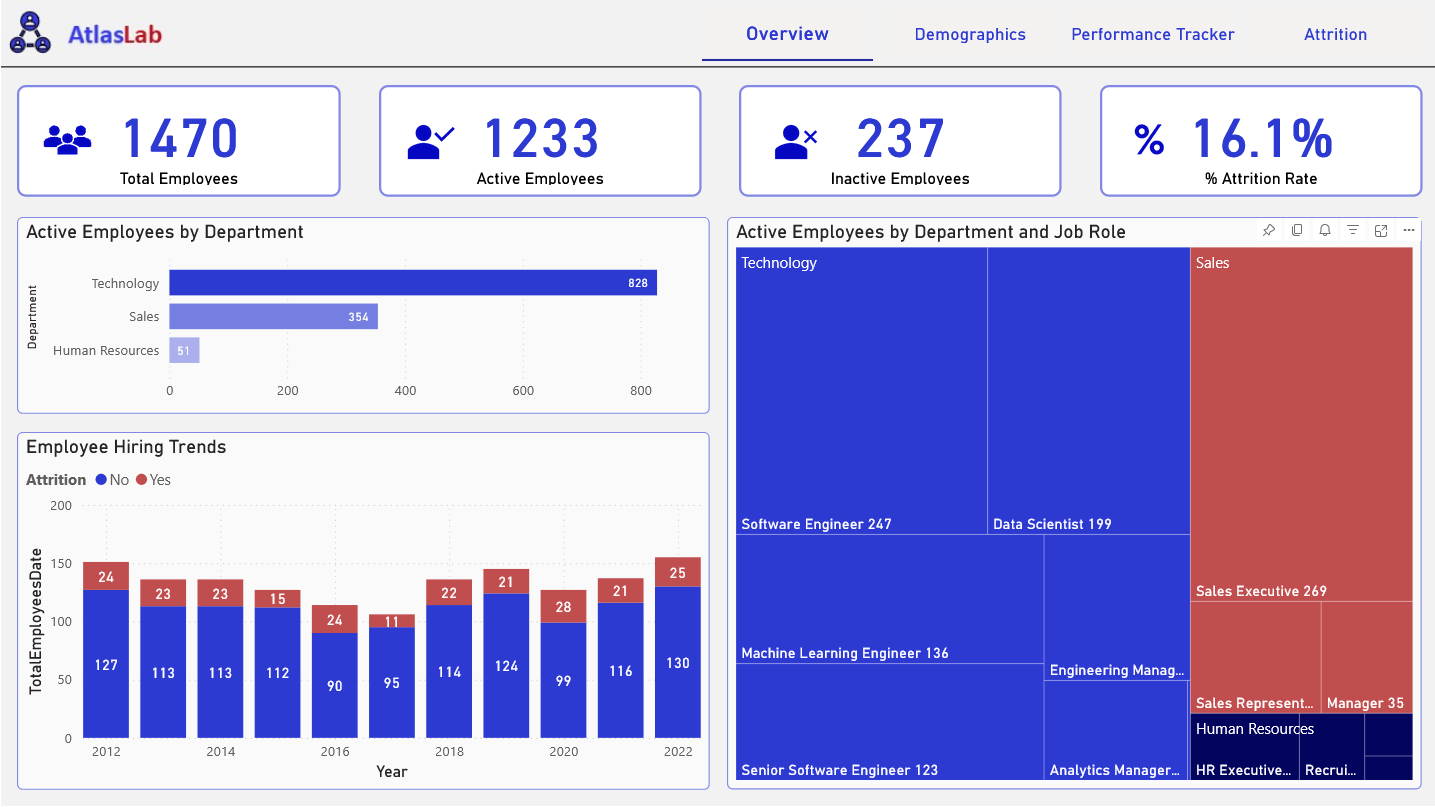

The page's visual inventory and layout, read from the dashboard file:
{"tool":"powerbi","page":{"name":"Overview","canvas":[1280,720],"ordinal":0},"visuals":[{"type":"card","fields":{"Values":["_Measures.TotalEmployees"]},"box":[15.1,75.5,288.8,99.6],"z":0},{"type":"card","fields":{"Values":["_Measures.ActiveEmployees"]},"box":[337.8,75.5,287.8,99.6],"z":1000},{"type":"card","fields":{"Values":["_Measures.InactiveEmployees"]},"box":[659.5,75.5,287.8,99.6],"z":2000},{"type":"card","fields":{"Values":["_Measures.% Attrition Rate"]},"box":[981.1,75.5,287.8,99.6],"z":3000},{"type":"columnChart","title":"Employee Hiring Trends","fields":{"Category":["DimDate.Date.Variation.Date Hierarchy.Year","DimDate.Date.Variation.Date Hierarchy.Quarter","DimDate.Date.Variation.Date Hierarchy.Month","DimDate.Date.Variation.Date Hierarchy.Day"],"Y":["_Measures.TotalEmployeesDate"],"Series":["DimEmployee.Attrition"]},"box":[15.1,385.7,618,319.2],"z":4000},{"type":"clusteredBarChart","title":"Active Employees by Department","fields":{"Category":["DimEmployee.Department"],"Y":["_Measures.ActiveEmployees"]},"box":[15.1,193.3,618,175.6],"z":5000},{"type":"treemap","title":"Active Employees by Department and Job Role","fields":{"Values":["_Measures.ActiveEmployees"],"Group":["DimEmployee.Department"],"Details":["DimEmployee.JobRole"]},"box":[649.1,193.3,619.8,510.7],"z":6000},{"type":"pageNavigator","box":[625.9,4,643,50.3],"z":7000},{"type":"image","box":[31,96.7,57.6,56.7],"z":8000},{"type":"image","box":[351.1,100.2,59.4,53.2],"z":9000},{"type":"image","box":[675.7,100.2,62.1,53.2],"z":10000},{"type":"image","box":[980.7,84.2,90.4,90.4],"z":11000}]}

Visuals, with their boxes on the page's 1280x720 design canvas (x1, y1, x2, y2). These are canvas units, not pixel positions in the 1435x807 screenshot, which may show the page scaled, cropped or inside an application window:
card - _Measures.TotalEmployees: box(15, 76, 304, 175)
card - _Measures.ActiveEmployees: box(338, 76, 626, 175)
card - _Measures.InactiveEmployees: box(660, 76, 947, 175)
card - _Measures.% Attrition Rate: box(981, 76, 1269, 175)
"Employee Hiring Trends" columnChart: box(15, 386, 633, 705)
"Active Employees by Department" clusteredBarChart: box(15, 193, 633, 369)
"Active Employees by Department and Job Role" treemap: box(649, 193, 1269, 704)
pageNavigator: box(626, 4, 1269, 54)
image: box(31, 97, 89, 153)
image: box(351, 100, 410, 153)
image: box(676, 100, 738, 153)
image: box(981, 84, 1071, 175)
